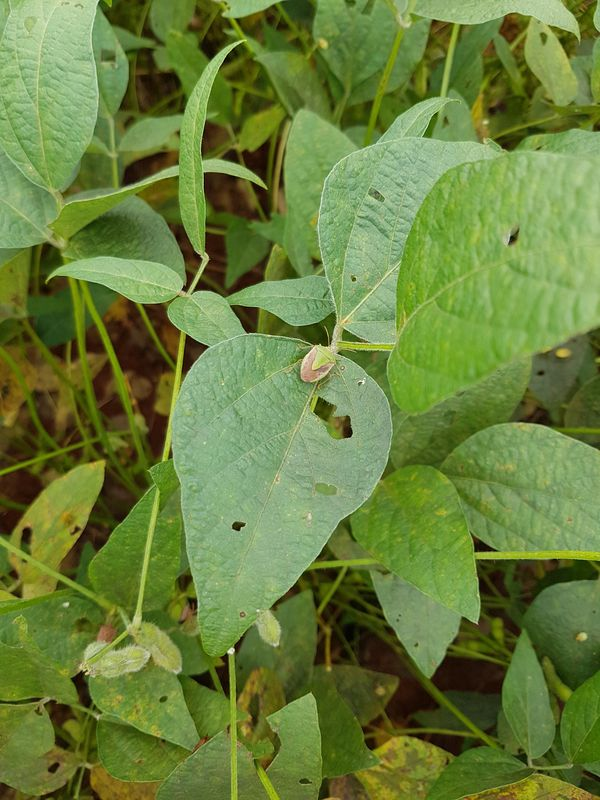Edessa_meditabunda: (289, 325, 360, 391)
